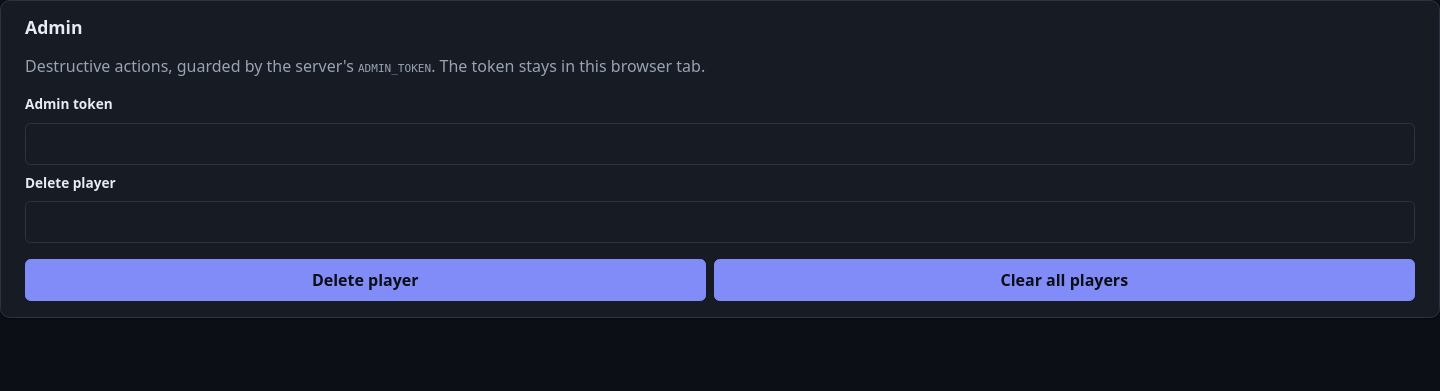
Test: AdminPanel › deletes a player with the bearer token and reports it
Type "s3cret" into the password field labelled "Admin token".
click(720, 144); type("s3cret")  # box [25,122,1415,164]
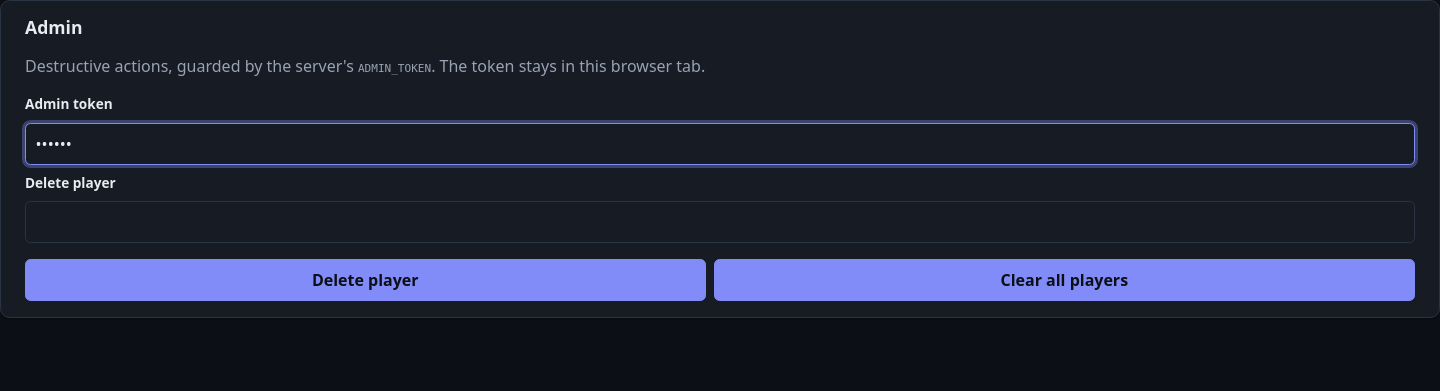
Type "alice" into the dropdown labelled "Delete player".
click(720, 222); type("alice")  # box [25,201,1415,243]
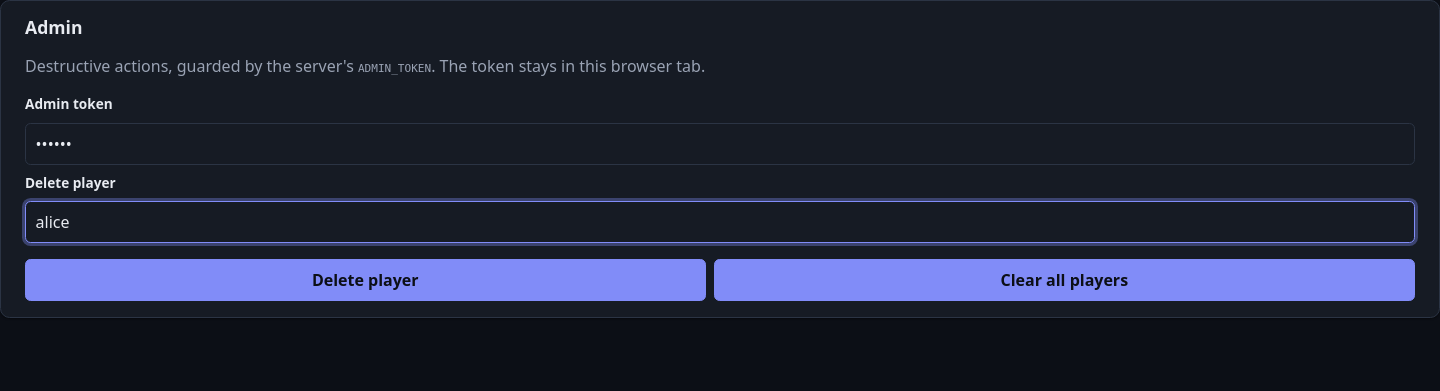
Click the button "Delete player".
click(365, 280)  # box [25,259,706,301]
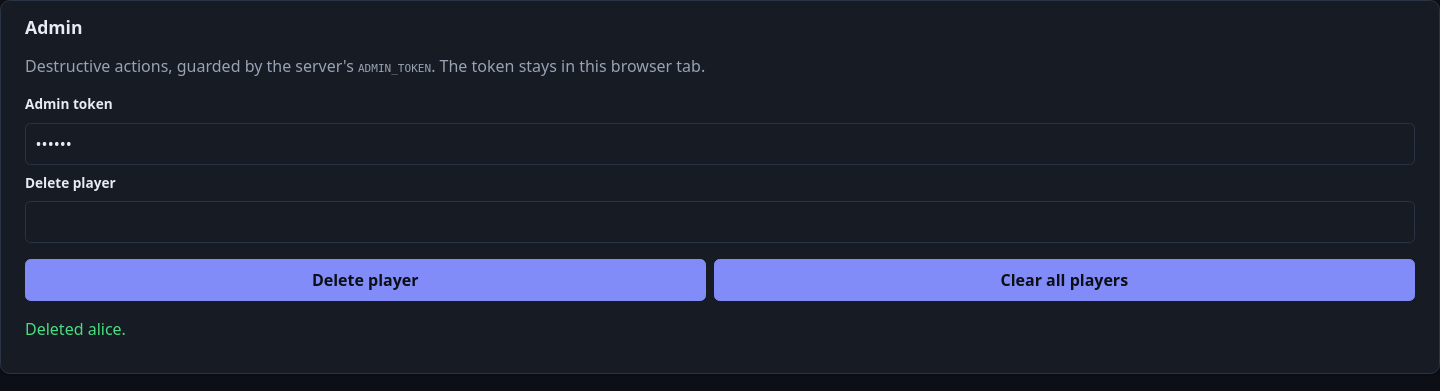
Expected: the message shows "Deleted alice", [25,318,126,340]
